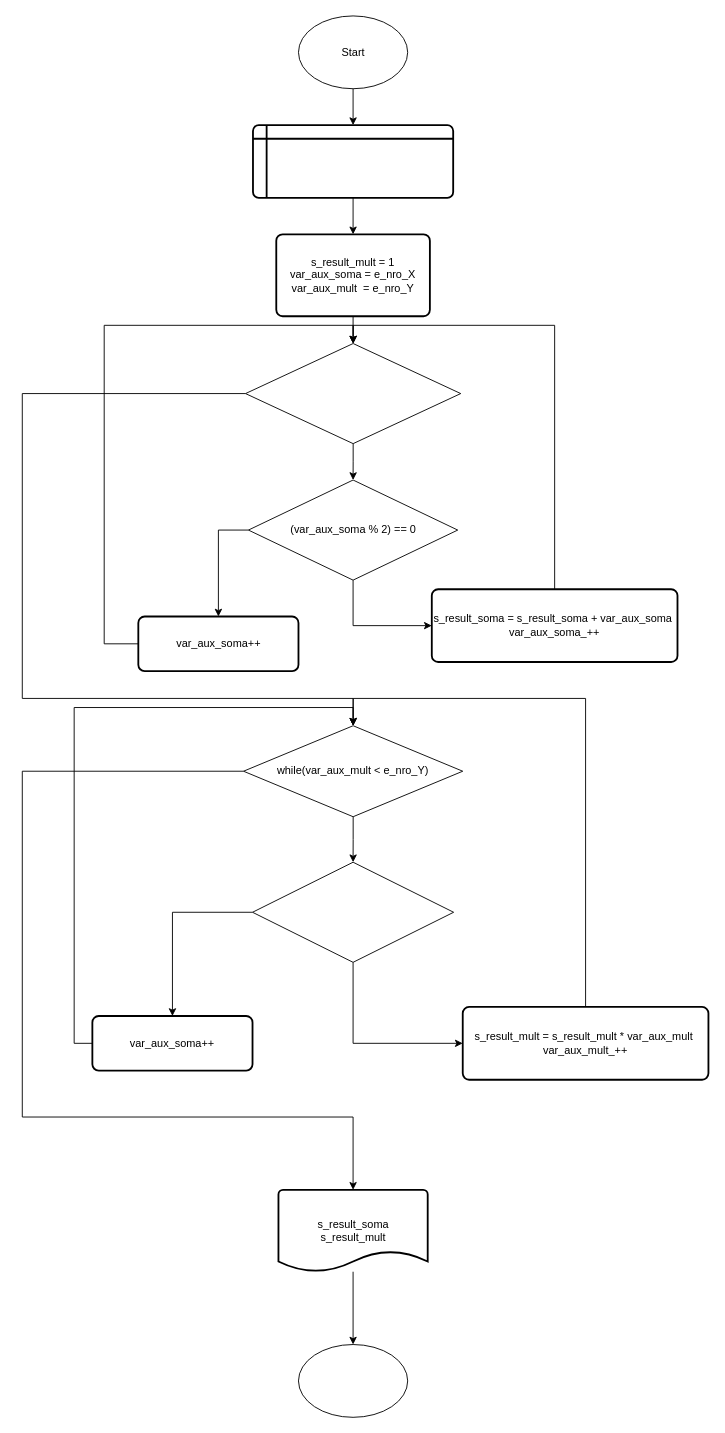
The diagram is 725 pixels wide and 1433 high, and some of its shapes have lost their labels. The centre of each missing label's shape, as x and y in pixels:
"(var_aux_soma % 2) != 0" goes at pixel 353 911.
"e_nro_X, e_nro_Y, s_result_soma, s_result_mult, var_aux_soma, var_aux_mult" goes at pixel 353 161.
"End" goes at pixel 353 1380.
"while(var_aux_soma < e_nro_y)" goes at pixel 353 393.
